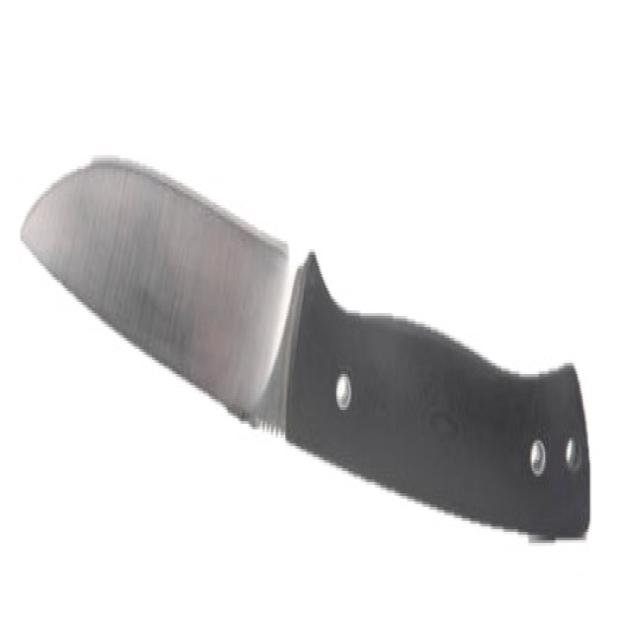knife: (18, 133, 601, 547)
